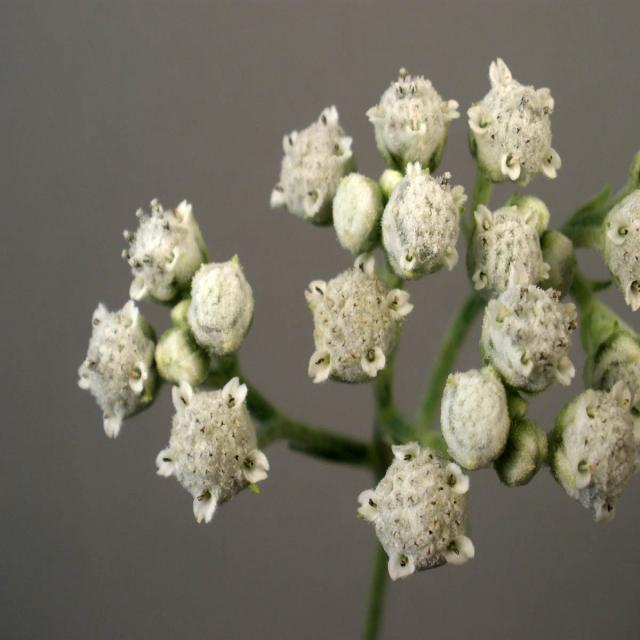Poisonous-Parthenium: (278, 54, 640, 581), (76, 195, 278, 526)
